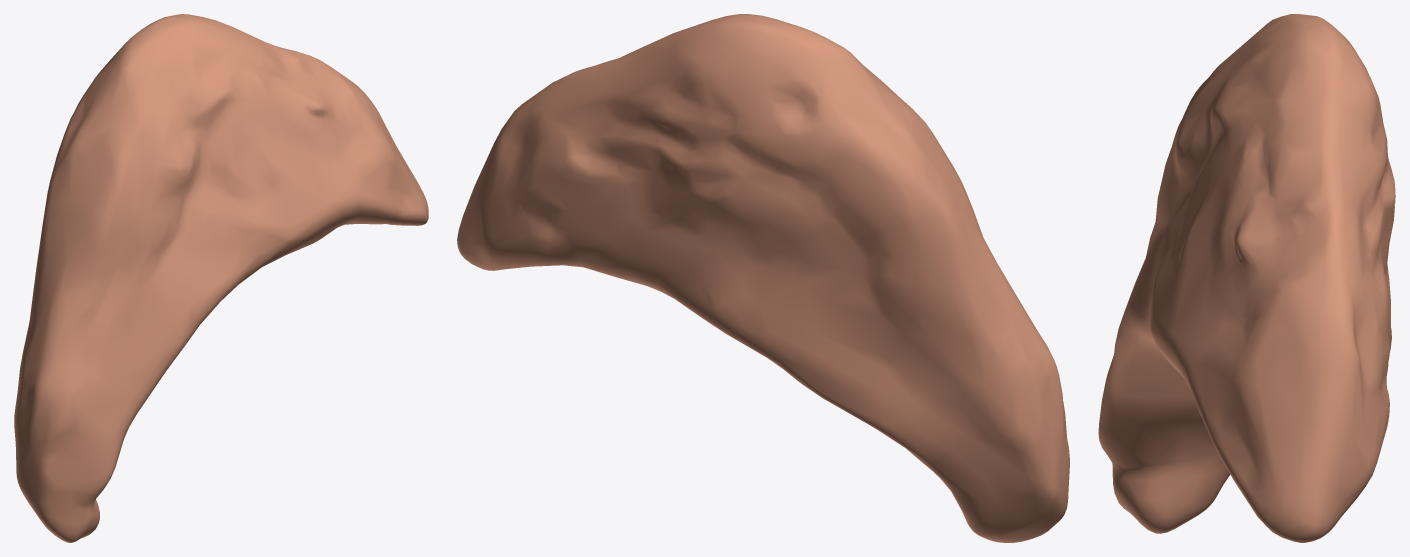
The model's file is suprarenal-gland-l.glb.
The picture shows the model from 3 angles, left to right: view 1: azimuth 30°, elevation 25°; view 2: azimuth 150°, elevation 25°; view 3: azimuth 270°, elevation 25°; orthographic projection. The views are drawn at different scales.
Parts seen in each view (by area): view 1: Suprarenal gland.l; view 2: Suprarenal gland.l; view 3: Suprarenal gland.l.
Boxes of the visible parts, x1,y1,x2,y2 form: Suprarenal gland.l: [14, 14, 428, 542]; Suprarenal gland.l: [457, 14, 1069, 542]; Suprarenal gland.l: [1098, 14, 1395, 542].
Size of the model in its own units: 0.0482 by 0.0449 by 0.0202.
